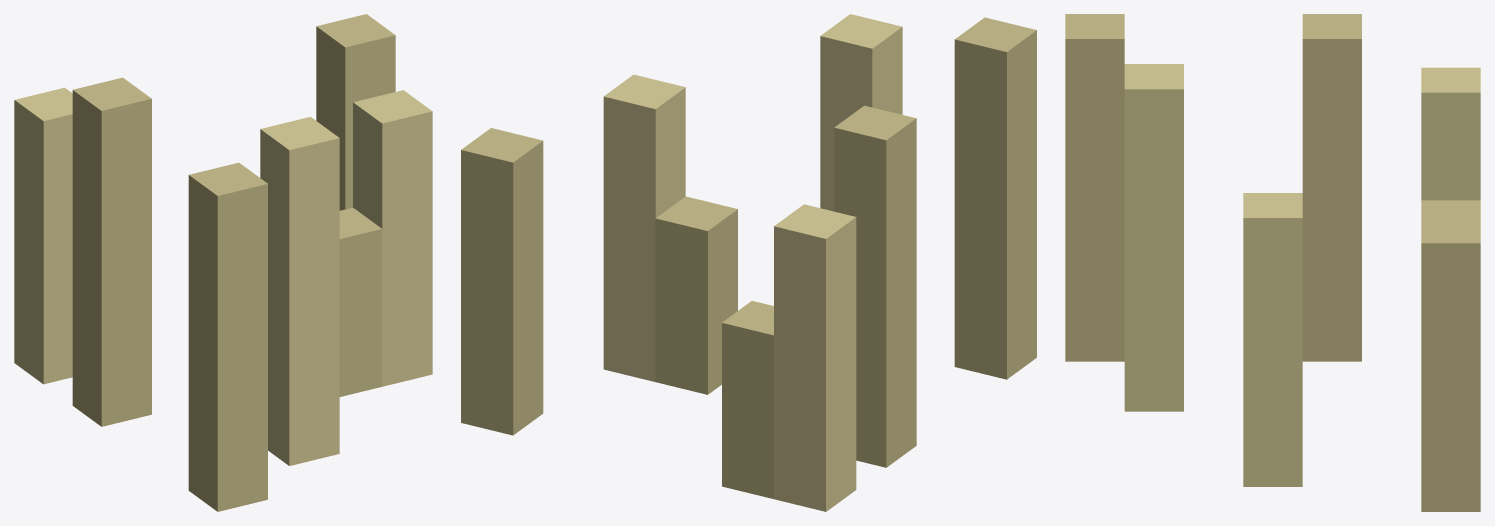
File: trigo_silvestre_05.glb
The picture shows the model from 3 angles, left to right: view 1: azimuth 30°, elevation 25°; view 2: azimuth 150°, elevation 25°; view 3: azimuth 270°, elevation 25°; orthographic projection. The views are drawn at different scales.
Visible parts, largest first — view 1: trigo_silvestre_05; view 2: trigo_silvestre_05; view 3: trigo_silvestre_05.
Boxes of the visible parts, left/top/right/bottom form: trigo_silvestre_05: left=14, top=14, right=432, bottom=511; trigo_silvestre_05: left=461, top=14, right=1036, bottom=511; trigo_silvestre_05: left=1065, top=14, right=1480, bottom=511.
Bounding box in the file's own units: 0.7 × 0.6 × 0.7.
